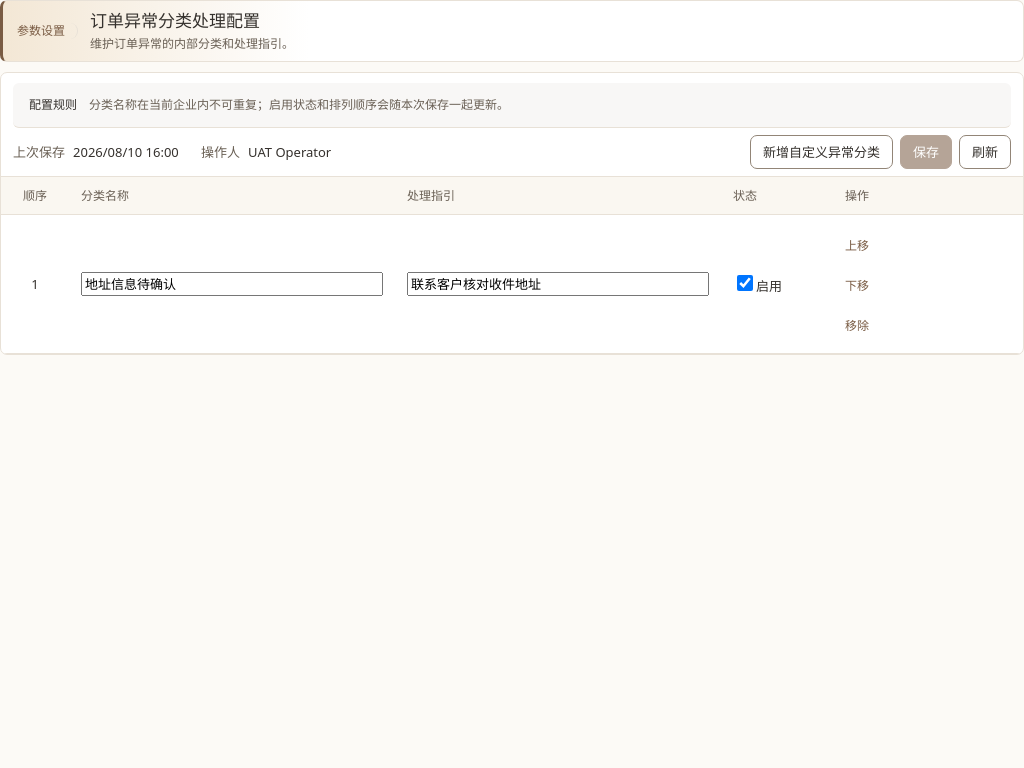
SettingsOrderExceptionConfigPage › loads, adds, orders and saves real category drafts
Expected: the 1st field showing "地址信息待确认" is shown, 81,272 -> 383,296
Click the button "新增自定义异常分类": (822, 152) 750,134 -> 893,168
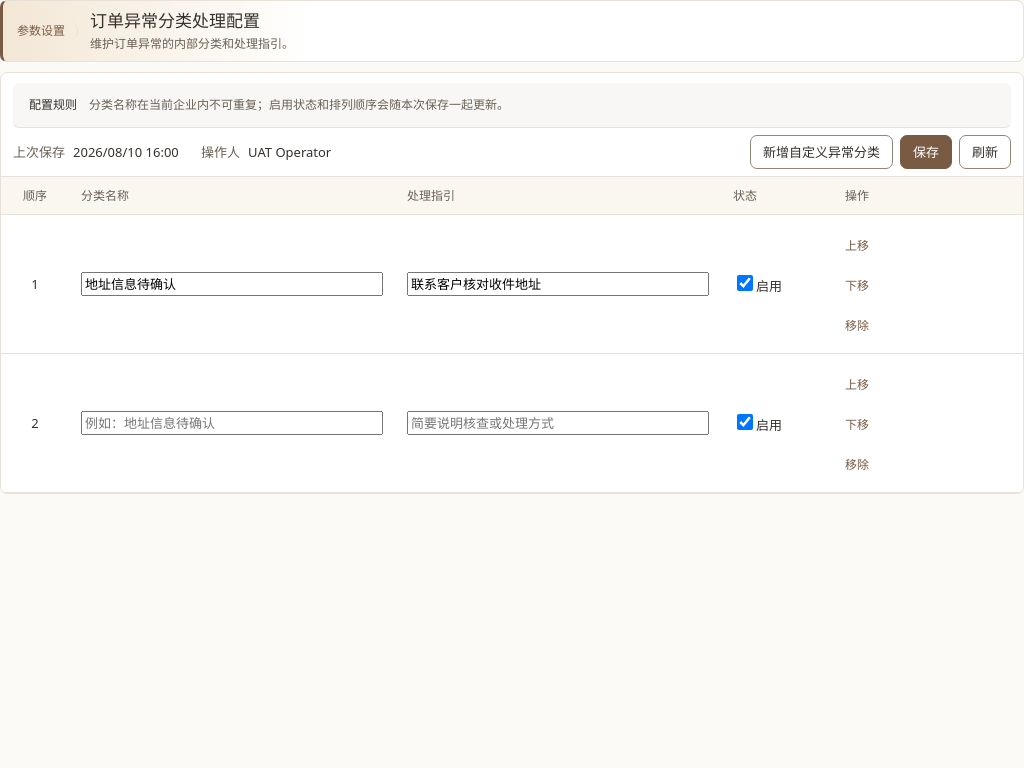
Expected: the number of rows is 3, 1,176 -> 1023,214; 1,215 -> 1023,354; 1,354 -> 1023,492
In the field named "第 2 项分类名称": (232, 423) 81,411 -> 383,435, type "库存待确认"
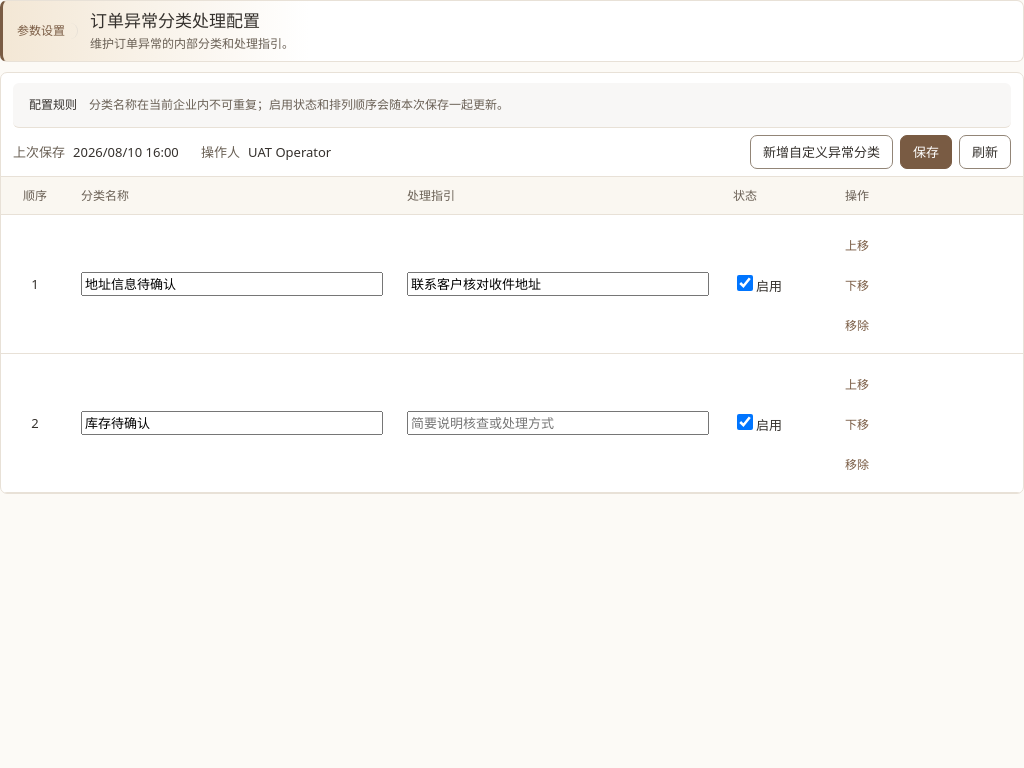
In the field named "第 2 项处理指引": (558, 423) 407,411 -> 709,435, type "核对可用库存"
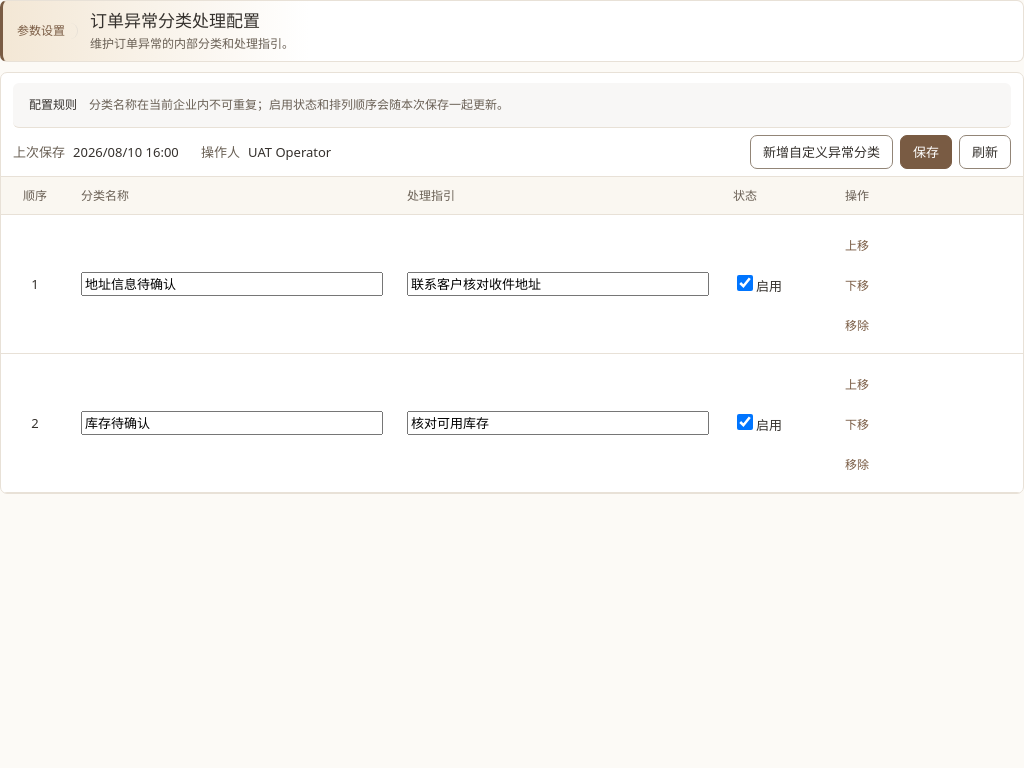
Click the 2nd button "上移": (857, 385) 845,367 -> 869,403
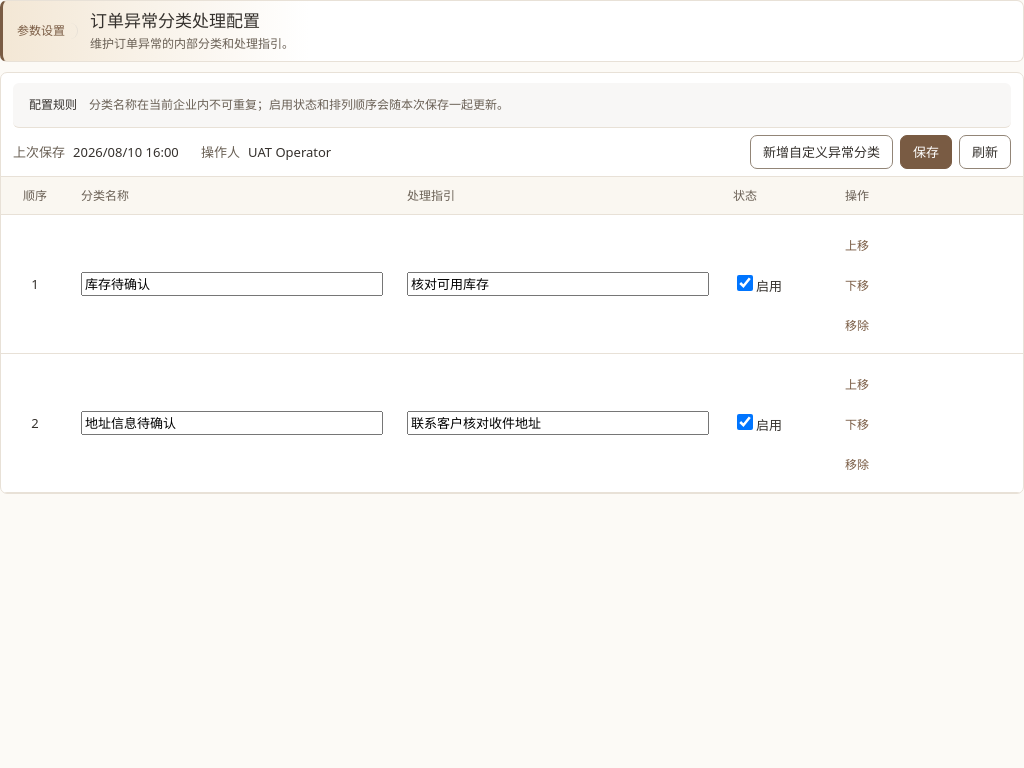
Click the button "保存": (926, 152) 900,134 -> 952,168
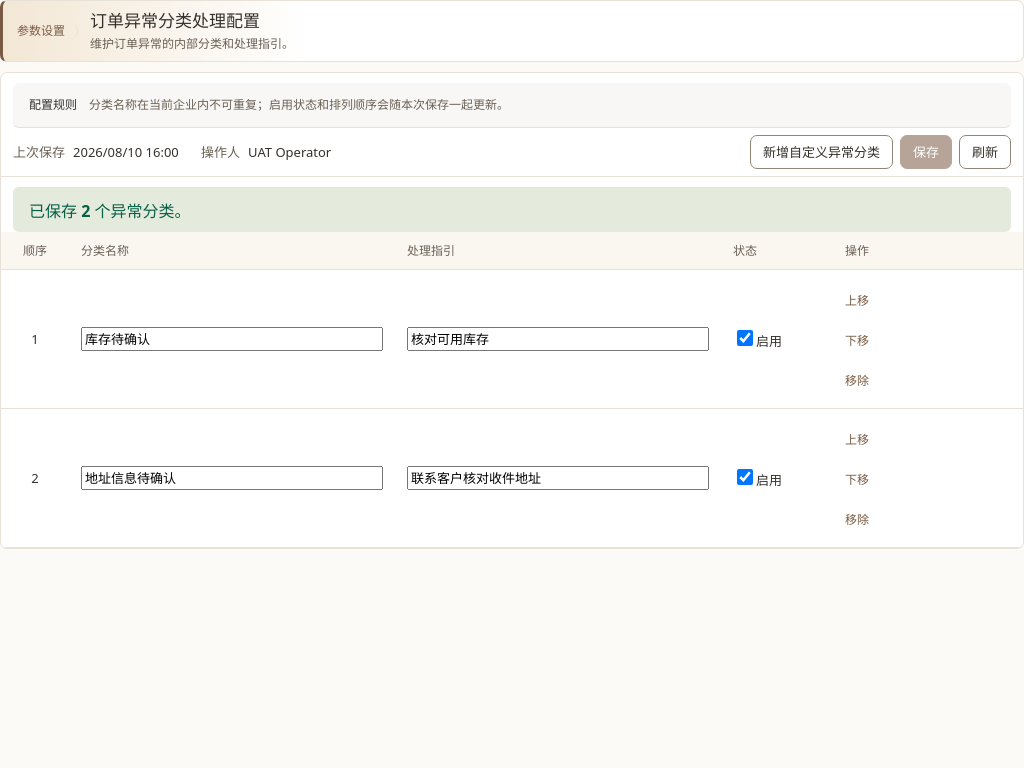
Expected: the text "已保存 2 个异常分类。" is shown, 13,186 -> 1011,232
